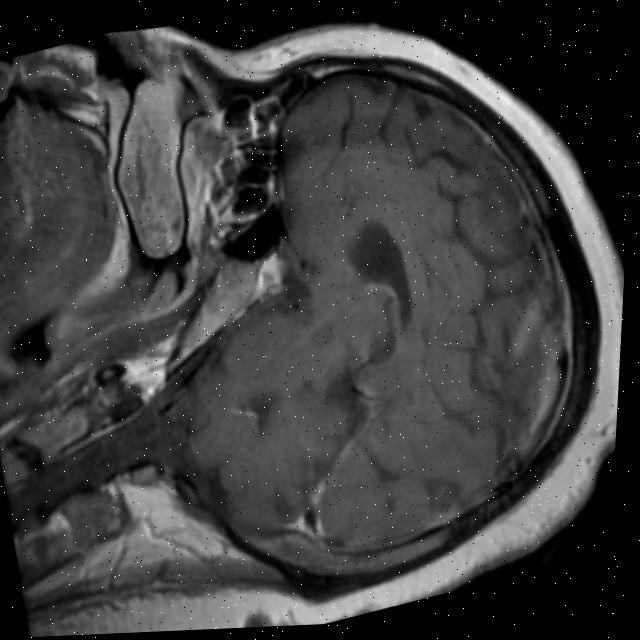Pituitary: (250, 242, 295, 298)
